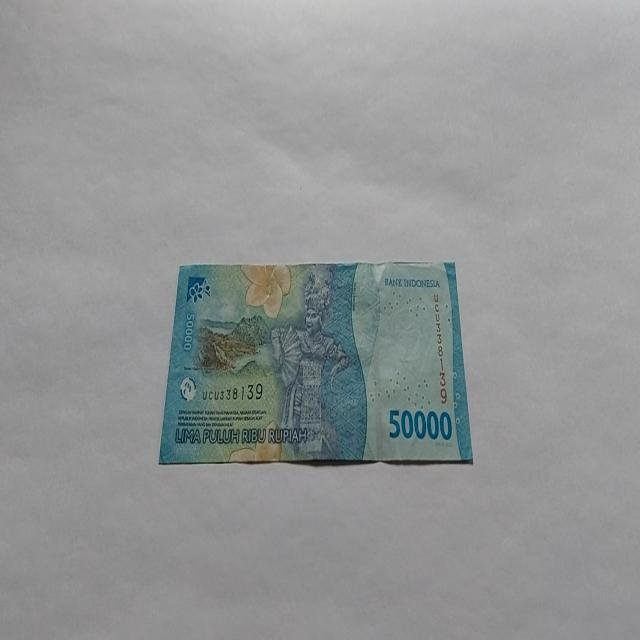lima puluh ribu rupiah: (158, 258, 474, 466)
